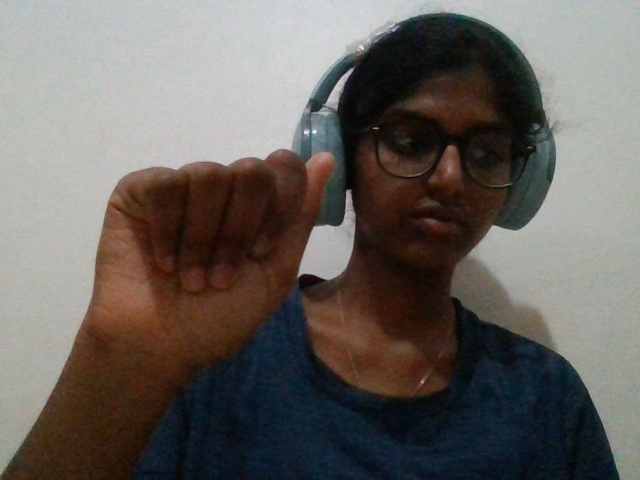A: (23, 111, 358, 424)
